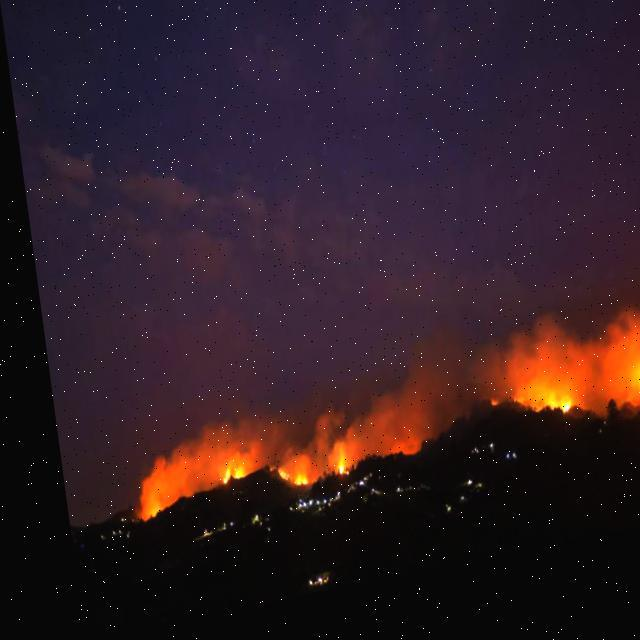Fire: (496, 404, 561, 444), (258, 462, 296, 504), (204, 458, 236, 498), (126, 498, 153, 526), (316, 458, 336, 490), (630, 394, 639, 425), (475, 411, 484, 426)
